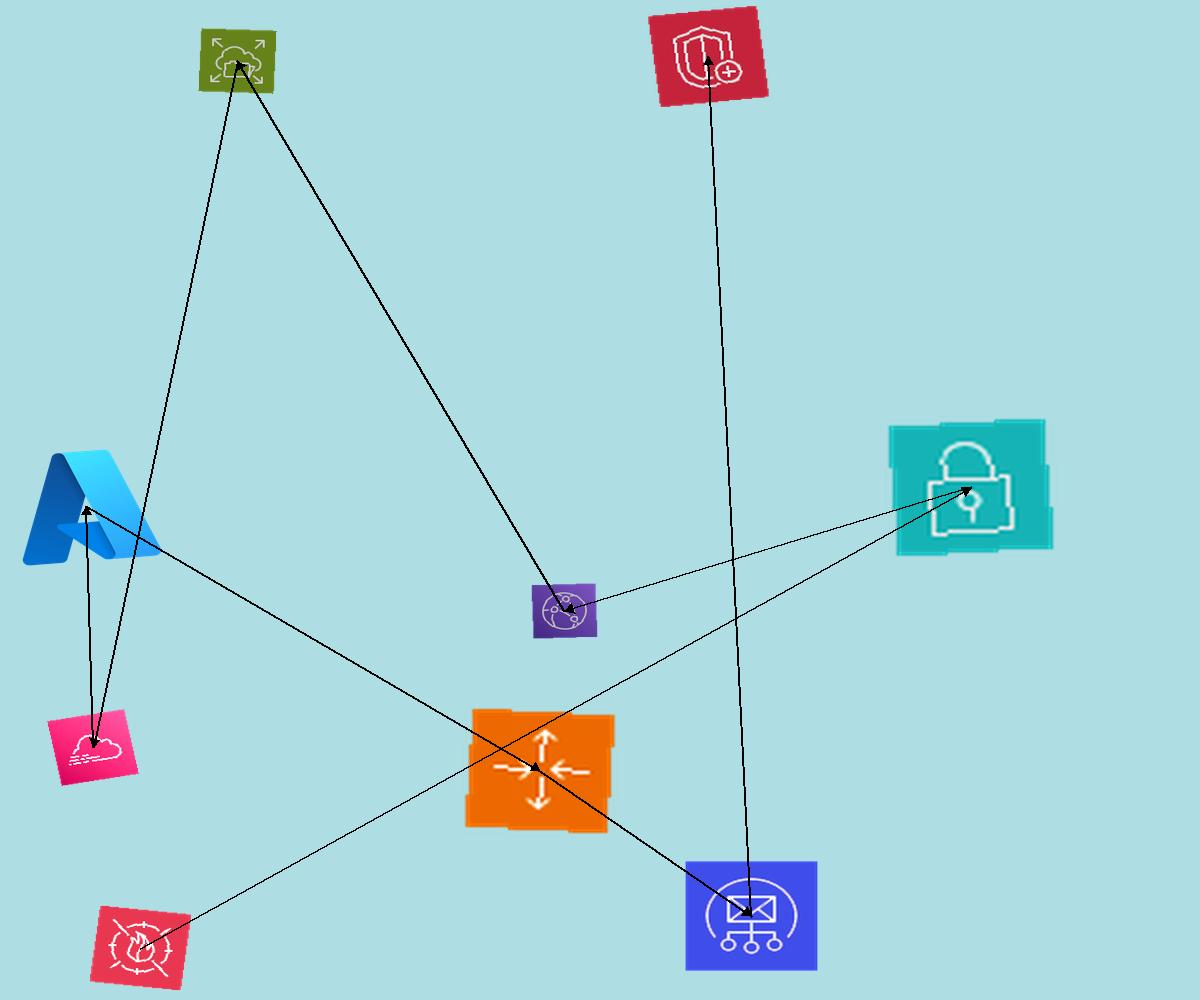AWS-CloudFront: (531, 583, 598, 639)
AWS-CloudTrail: (47, 709, 139, 786)
AWS-EFS: (198, 28, 277, 94)
AWS-Private-subnet: (885, 416, 1057, 559)
AWS-Scaling-group: (462, 706, 618, 836)
AWS-Shield: (647, 5, 770, 108)
AWS-Simple-Email-Service: (684, 860, 819, 972)
AWS-WAF: (89, 905, 192, 991)
Azure_services: (4, 437, 169, 575)
